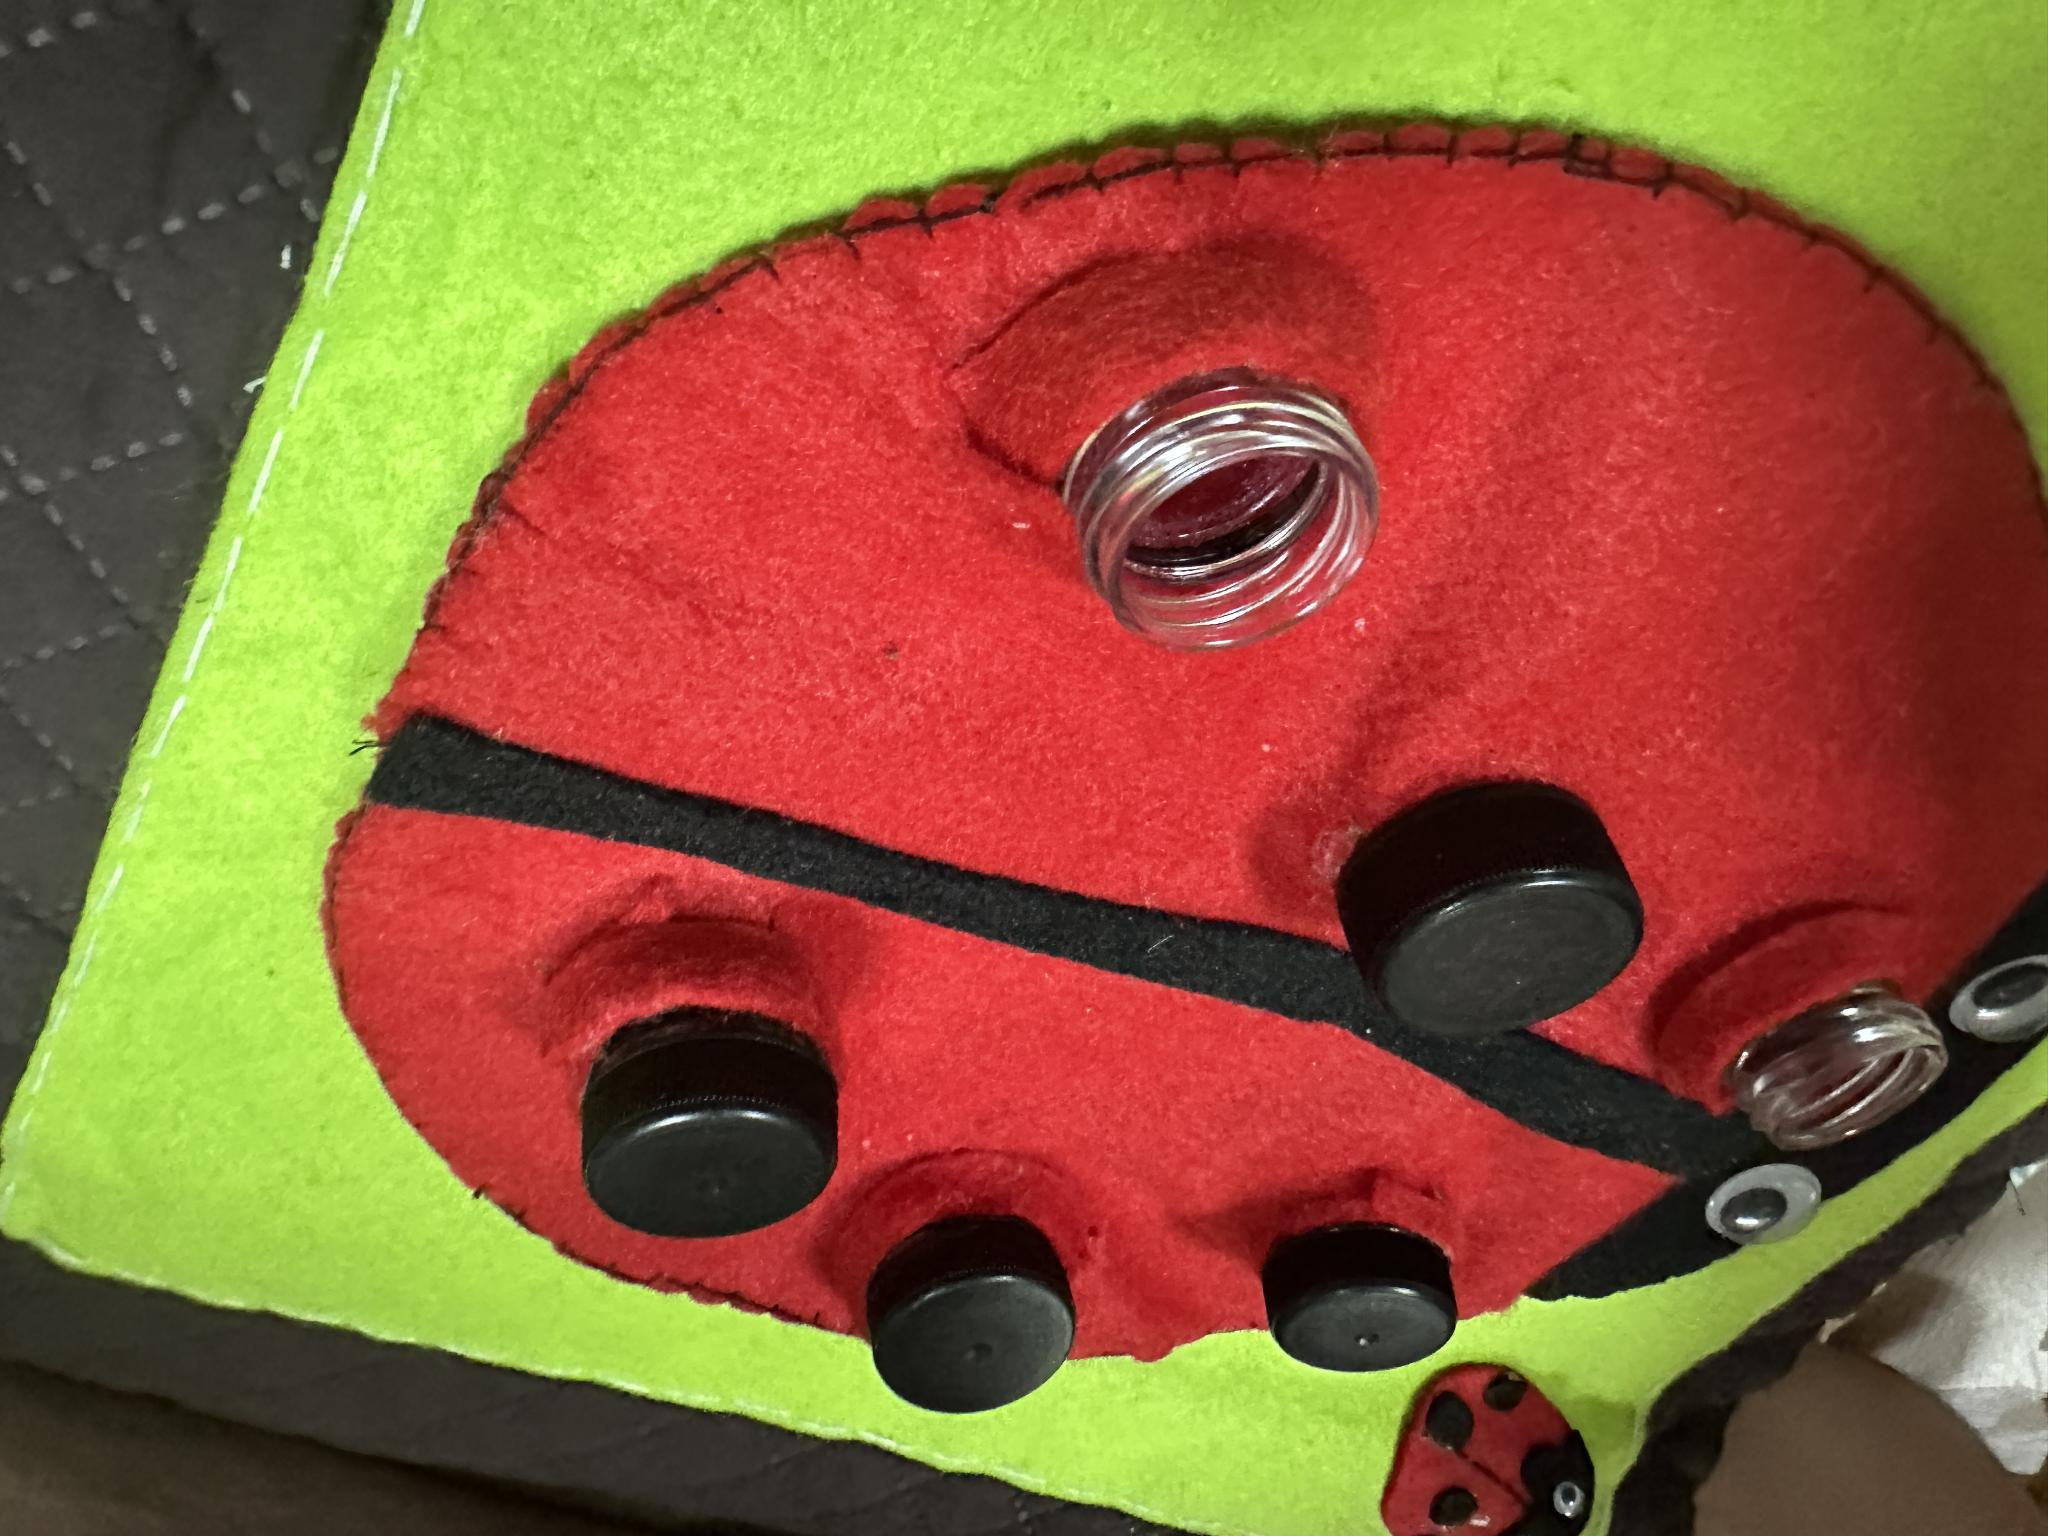cap_ok: (1311, 665, 1666, 1068), (540, 886, 895, 1242), (822, 1129, 1150, 1431), (1214, 1125, 1511, 1404)
